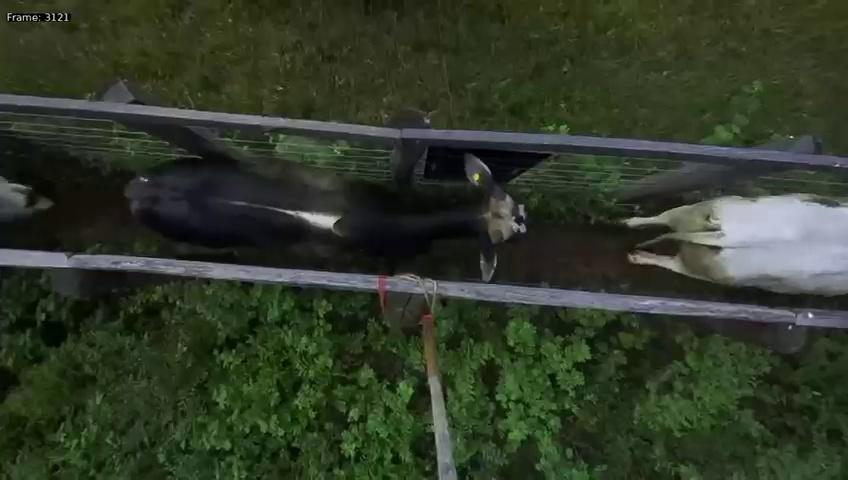cattle: (97, 148, 532, 283)
